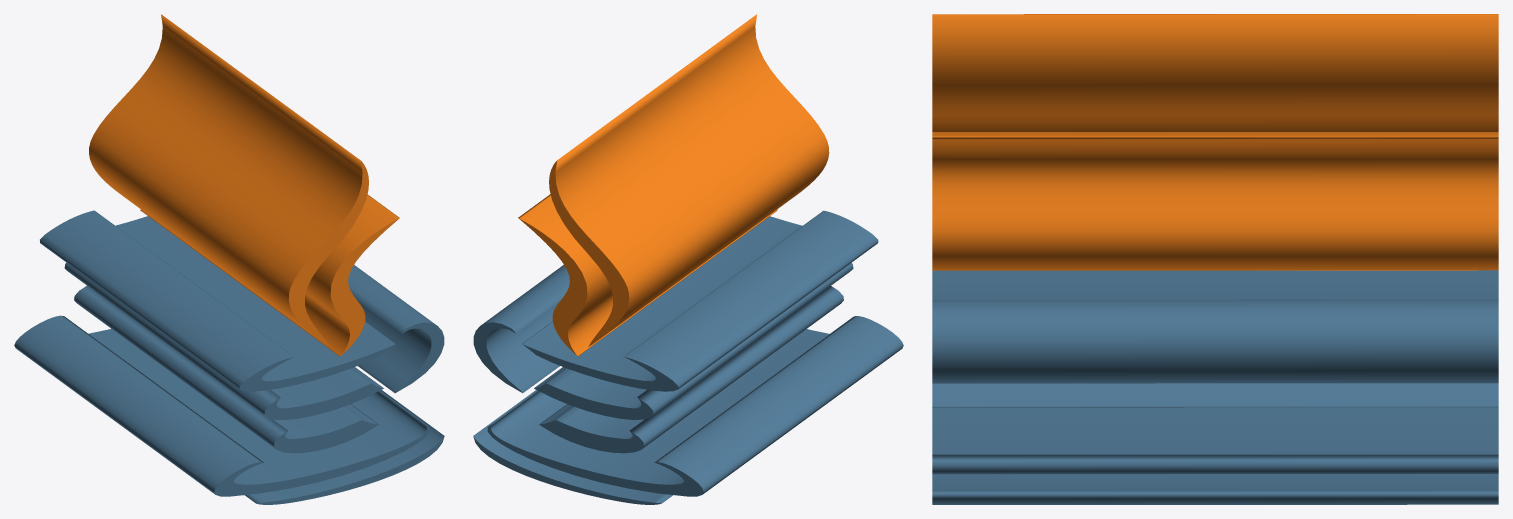
File: Java.glb
3 renders of one model, left to right at view 1: azimuth 30°, elevation 25°; view 2: azimuth 150°, elevation 25°; view 3: azimuth 270°, elevation 25°, orthographic. The views are drawn at different scales.
Visible parts, largest first — view 1: Curve.001; view 2: Curve.001; view 3: Curve.001.
Boxes of the visible parts, left/top/right/bottom form: Curve.001: left=14, top=14, right=444, bottom=504; Curve.001: left=473, top=14, right=903, bottom=504; Curve.001: left=932, top=14, right=1498, bottom=504.
Size of the model in its own units: 0.0133 by 0.0181 by 0.02.
